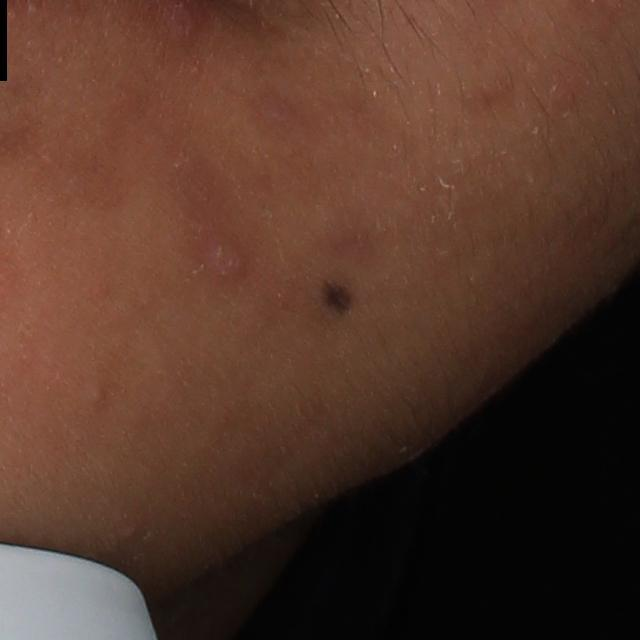nevus: (311, 276, 367, 322)
papule: (200, 235, 253, 279)
